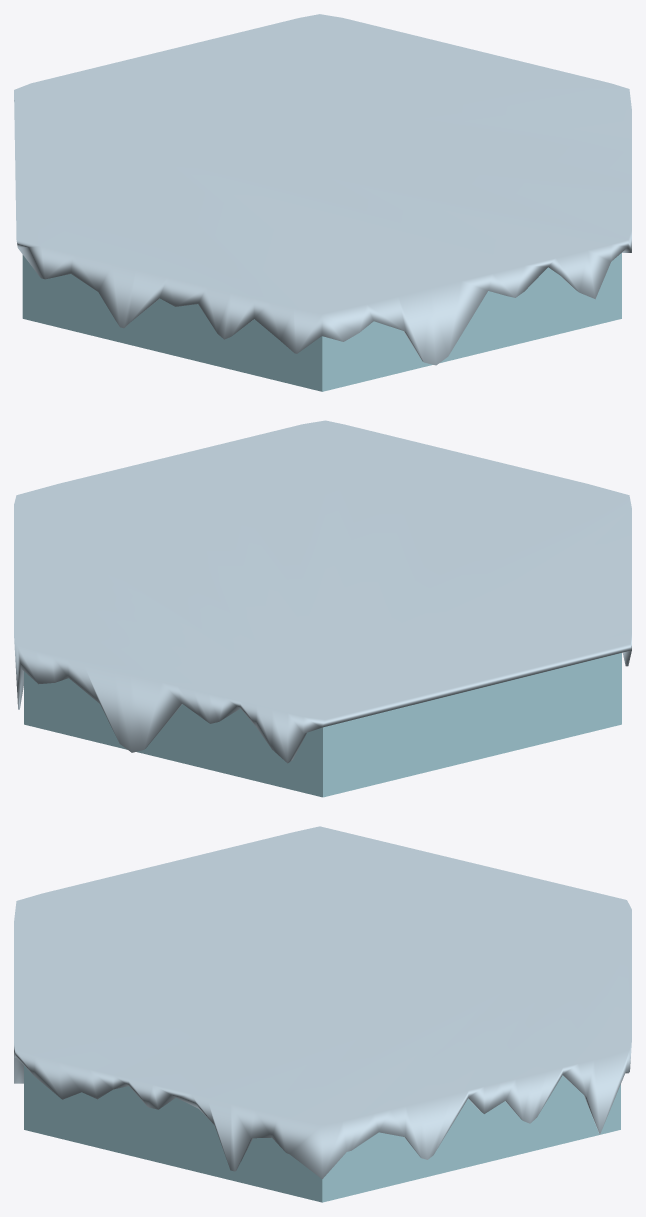
Rendered from snowy_ice.fbx.
The picture shows the model from 3 angles, top to bottom: view 1: azimuth 30°, elevation 25°; view 2: azimuth 150°, elevation 25°; view 3: azimuth 270°, elevation 25°; orthographic projection.
Parts seen in each view (by area): view 1: snow, ice; view 2: snow, ice; view 3: snow, ice.
Part boxes in pixels (x1=…): snow: x1=14, y1=14, x2=631, y2=365; ice: x1=22, y1=253, x2=621, y2=391; snow: x1=14, y1=420, x2=631, y2=763; ice: x1=24, y1=653, x2=621, y2=797; snow: x1=14, y1=826, x2=631, y2=1179; ice: x1=24, y1=1066, x2=620, y2=1202.
Bounding box in the file's own units: 0.472 × 0.4129 × 0.06.
